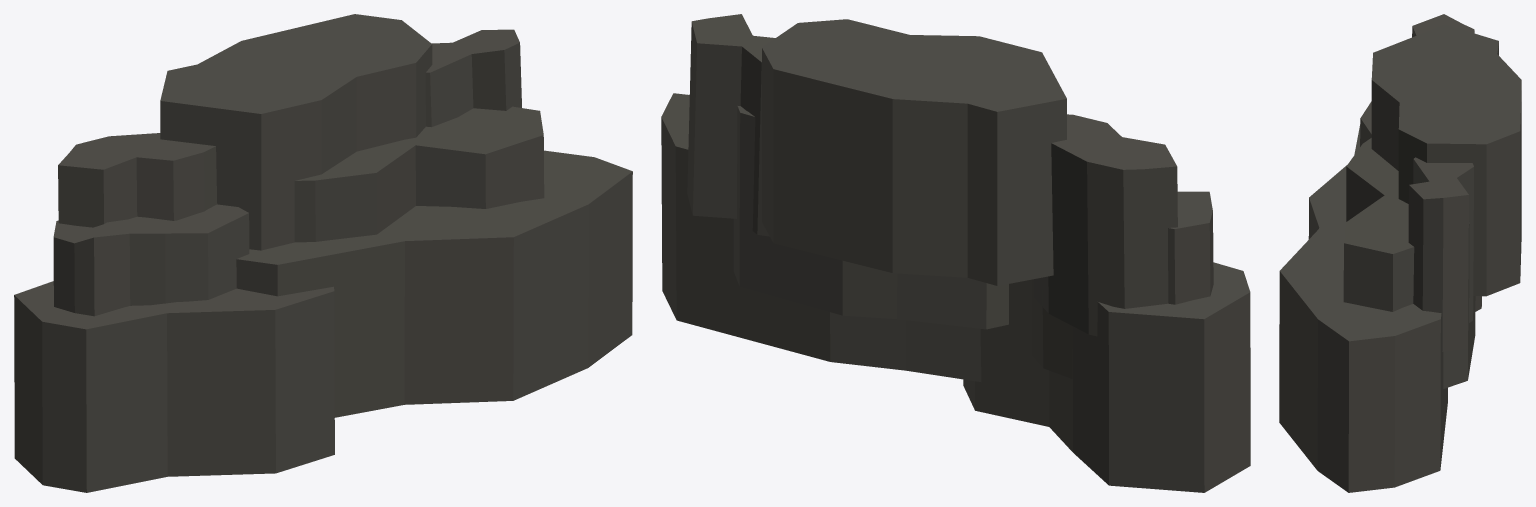
File: rock.fbx
The picture shows the model from 3 angles, left to right: view 1: azimuth 30°, elevation 25°; view 2: azimuth 150°, elevation 25°; view 3: azimuth 270°, elevation 25°; orthographic projection. The views are drawn at different scales.
Visible parts, largest first — view 1: lower cliff; view 2: lower cliff; view 3: lower cliff.
Part boxes in pixels (left/top/right/bottom): lower cliff: left=14, top=14, right=632, bottom=492; lower cliff: left=661, top=14, right=1250, bottom=492; lower cliff: left=1279, top=14, right=1521, bottom=492.
Size of the model in its own units: 2002 by 1129 by 799.
